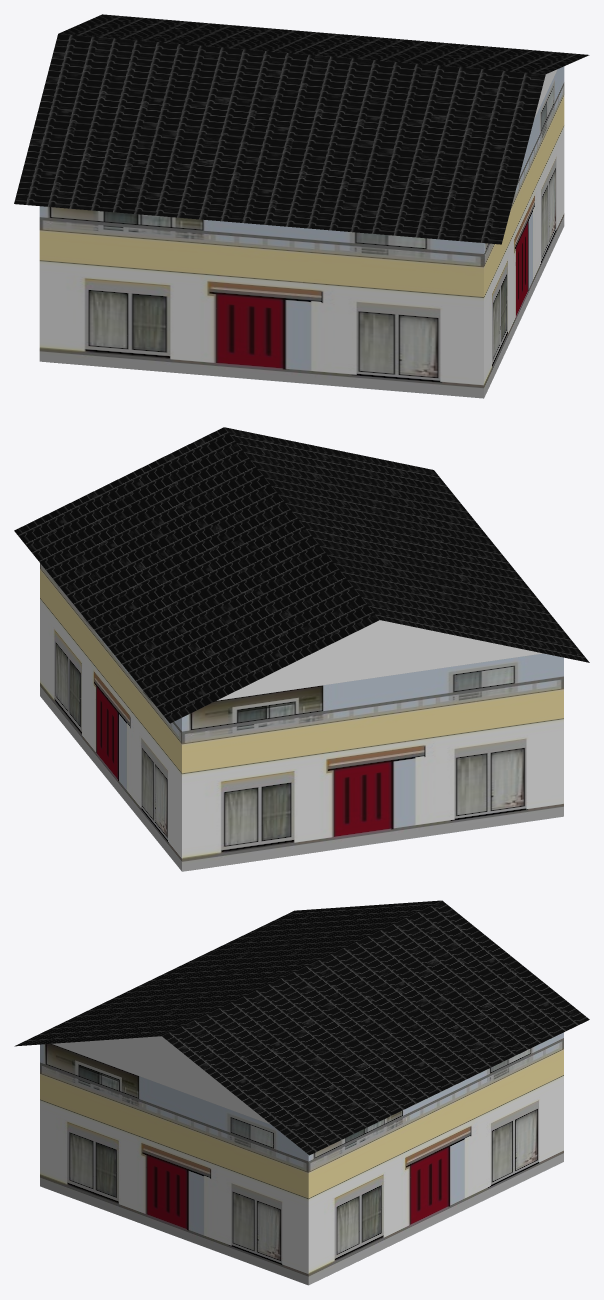
The picture shows the model from 3 angles, top to bottom: view 1: azimuth 30°, elevation 25°; view 2: azimuth 150°, elevation 25°; view 3: azimuth 270°, elevation 25°; orthographic projection. The views are drawn at different scales.
Parts seen in each view (by area): view 1: CityEngineMaterial_14_m, CityEngineMaterial_15_m; view 2: CityEngineMaterial_14_m, CityEngineMaterial_15_m, CityEngineMaterial_3_m; view 3: CityEngineMaterial_15_m, CityEngineMaterial_14_m, CityEngineMaterial_3_m.
Part boxes in pixels (bbox=[...]): CityEngineMaterial_14_m: bbox=[14, 14, 589, 244]; CityEngineMaterial_15_m: bbox=[39, 66, 564, 398]; CityEngineMaterial_14_m: bbox=[14, 427, 589, 723]; CityEngineMaterial_15_m: bbox=[40, 563, 563, 871]; CityEngineMaterial_3_m: bbox=[217, 620, 542, 700]; CityEngineMaterial_15_m: bbox=[40, 1032, 563, 1285]; CityEngineMaterial_14_m: bbox=[14, 900, 589, 1155]; CityEngineMaterial_3_m: bbox=[52, 1036, 270, 1124].
Bounding box in the file's own units: 30.61 × 11.99 × 30.44.
